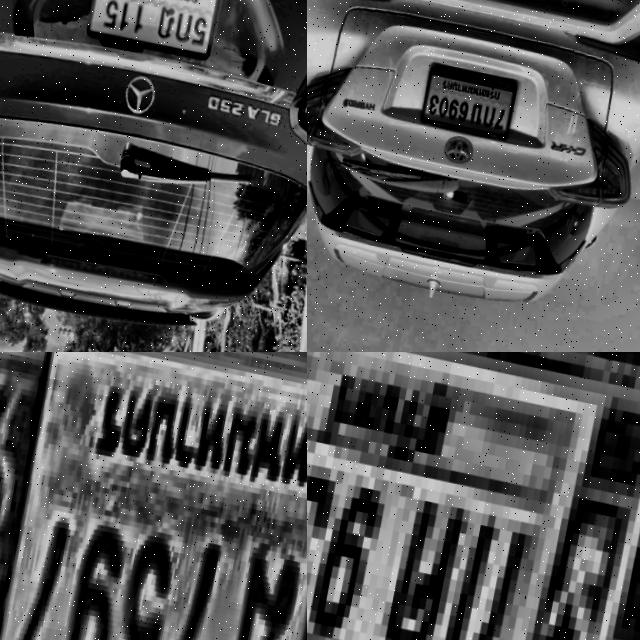license-plate: (307, 352, 640, 640), (0, 352, 307, 640), (412, 50, 526, 143), (80, 0, 227, 65)
